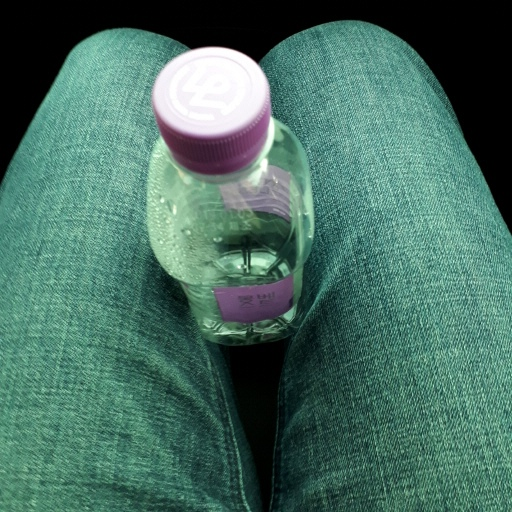Plastic_0: (143, 43, 317, 341)
